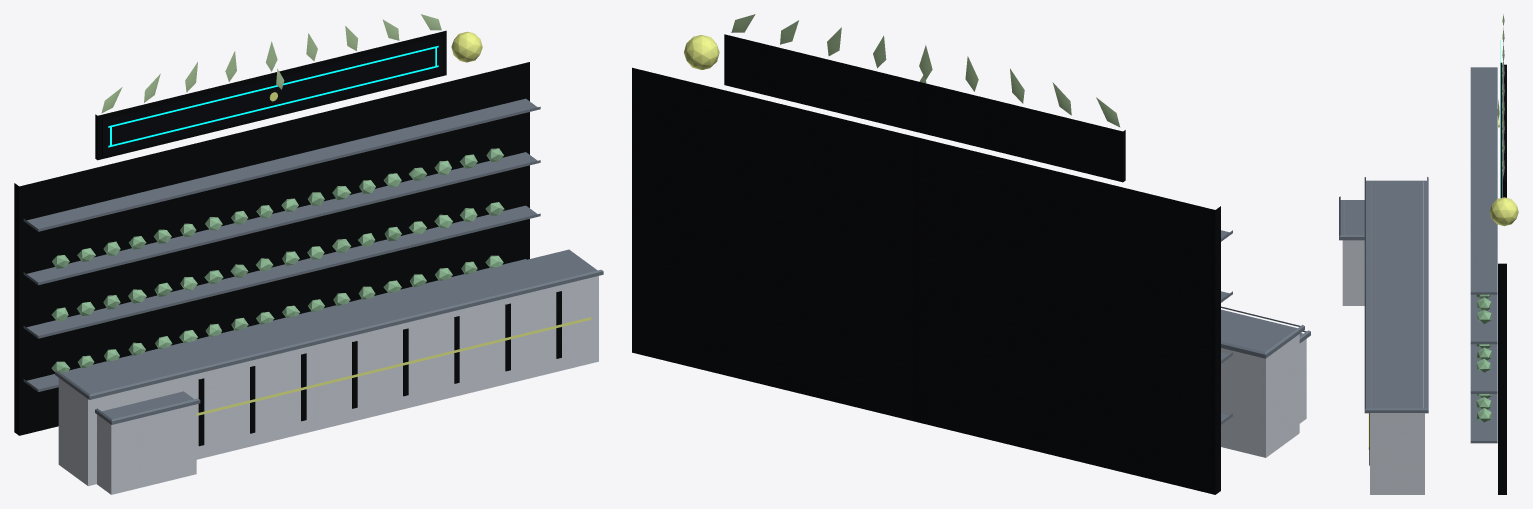
Rendered from tt_arc_prize_counter.glb.
3 renders of one model, left to right at view 1: azimuth 30°, elevation 25°; view 2: azimuth 150°, elevation 25°; view 3: azimuth 270°, elevation 25°, orthographic. The views are drawn at different scales.
Visible parts, largest first — view 1: PC_Shelves_Back, PC_Body, PC_Shelves, PC_Top, Screen_Plate, PC_Plush, PC_Acc_Body, PC_Sign_Back, PC_Flutes, PC_Sign_Leaves, Scr_Art, PC_Acc_Top (+2 smaller); view 2: PC_Shelves_Back, PC_Sign_Back, PC_Body, PC_Top, PC_Sign_Leaves, PC_Ball; view 3: PC_Top, PC_Shelves, PC_Body, PC_Shelves_Back, PC_Acc_Body, PC_Plush, PC_Acc_Top, PC_Ball, PC_Sign_Back, Screen_Plate, PC_Sign_Leaves.
Boxes of the visible parts, x1,y1,x2,y2 form: PC_Shelves_Back: (14, 62, 529, 435); PC_Body: (58, 276, 598, 486); PC_Shelves: (23, 98, 540, 391); PC_Top: (55, 249, 603, 399); Screen_Plate: (102, 37, 443, 155); PC_Plush: (51, 148, 504, 373); PC_Acc_Body: (97, 404, 196, 494); PC_Sign_Back: (95, 30, 446, 160); PC_Flutes: (198, 291, 561, 446); PC_Sign_Leaves: (101, 14, 441, 113); Scr_Art: (108, 45, 438, 147); PC_Acc_Top: (95, 391, 200, 424); PC_Shelves_Back: (632, 67, 1220, 494); PC_Sign_Back: (724, 34, 1125, 182); PC_Body: (1221, 334, 1299, 457); PC_Top: (1221, 309, 1304, 358); PC_Sign_Leaves: (731, 14, 1120, 127); PC_Ball: (684, 35, 719, 69); PC_Top: (1364, 177, 1428, 413); PC_Shelves: (1470, 67, 1497, 443); PC_Body: (1370, 182, 1424, 494); PC_Shelves_Back: (1498, 263, 1506, 494); PC_Acc_Body: (1342, 201, 1364, 305); PC_Plush: (1476, 294, 1491, 422); PC_Acc_Top: (1339, 196, 1364, 240); PC_Ball: (1489, 197, 1518, 226); PC_Sign_Back: (1502, 64, 1506, 197); Screen_Plate: (1500, 62, 1502, 197); PC_Sign_Leaves: (1502, 14, 1504, 177).
Size of what is drawn, in the model's own units: 6.04 by 3.71 by 1.97.
8 materials, 4 textured.
